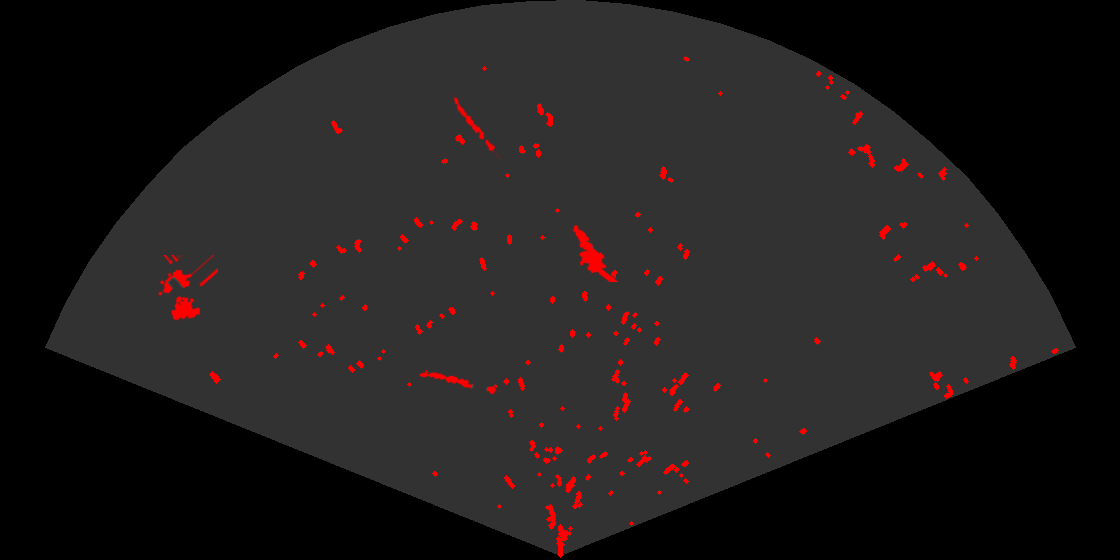cage: (157, 255, 218, 322)
chain: (448, 93, 500, 159), (417, 371, 501, 396)
frogman: (571, 223, 618, 282)
